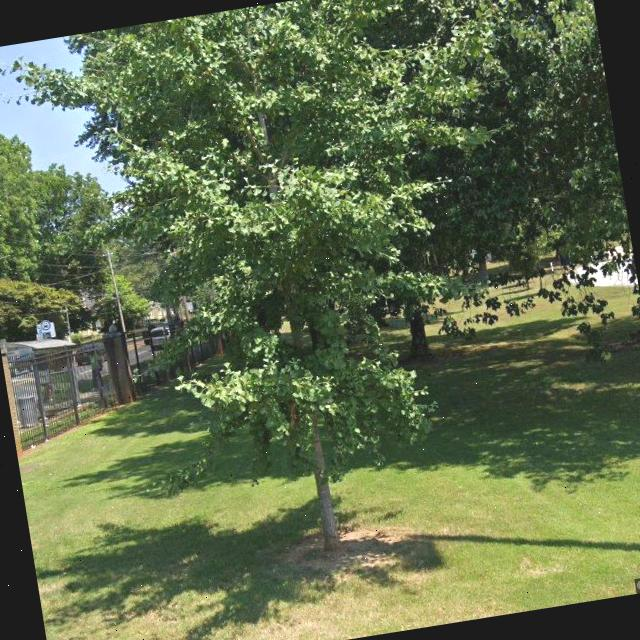shelter: (4, 332, 88, 430)
trash_can: (18, 395, 40, 428)
